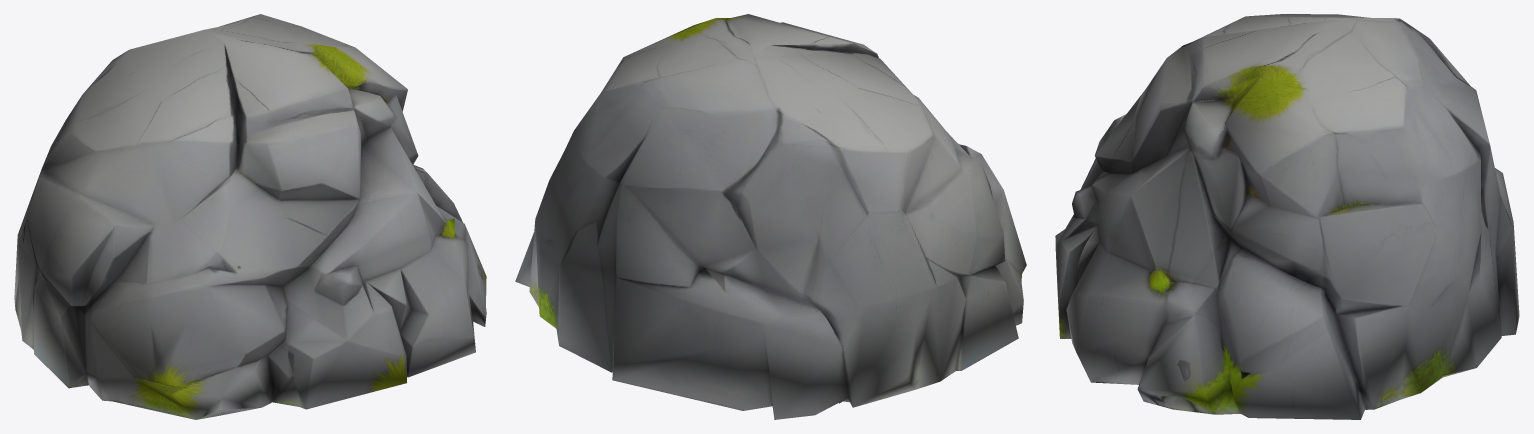
Rendered from rock.glb.
3 renders of one model, left to right at view 1: azimuth 30°, elevation 25°; view 2: azimuth 150°, elevation 25°; view 3: azimuth 270°, elevation 25°, orthographic. The views are drawn at different scales.
Size of the model in its own units: 2 by 1.23 by 1.8.
1 material, 1 textured.
